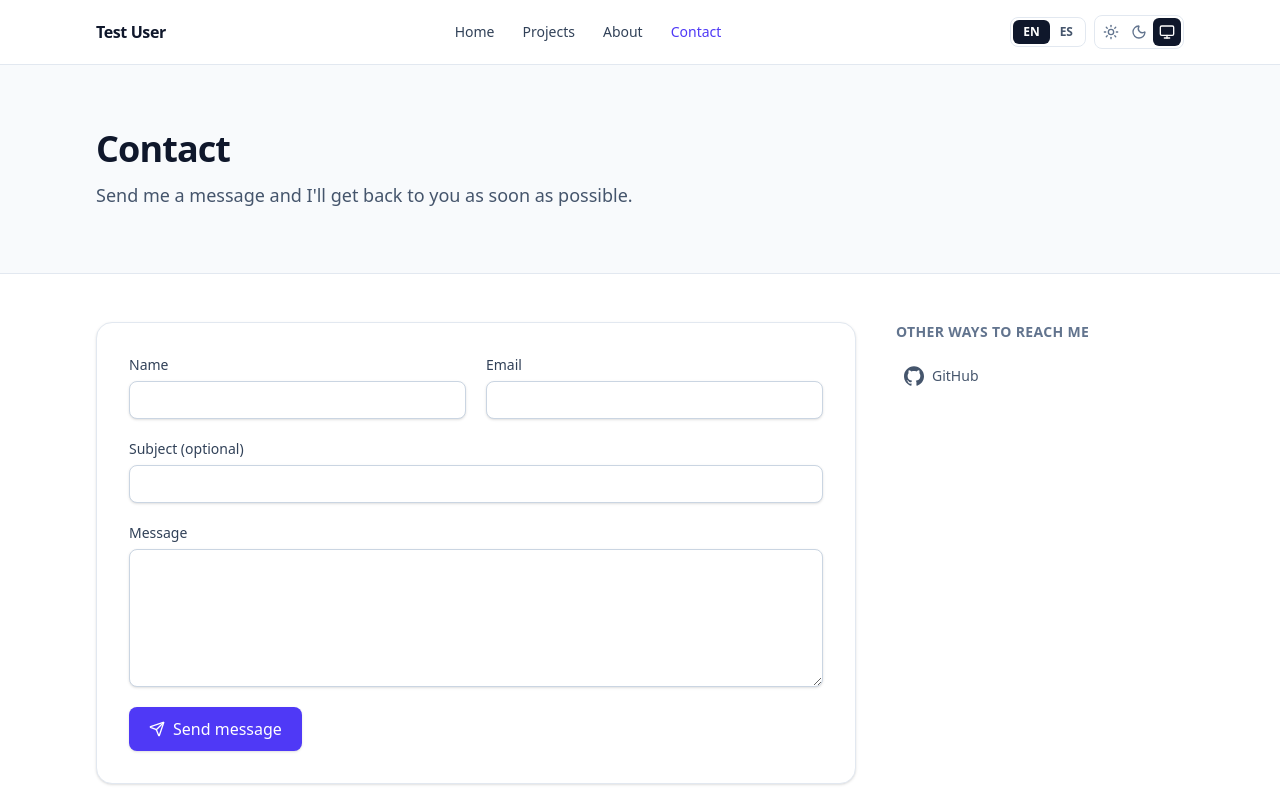
Test: ContactForm › sends the message with the page language and shows a confirmation
expect the button "Send message" is shown: met, box 129,707 -> 302,751
Step 1. Type "Ana" into the field labelled "Name" → (298, 400), box 129,381 -> 466,419
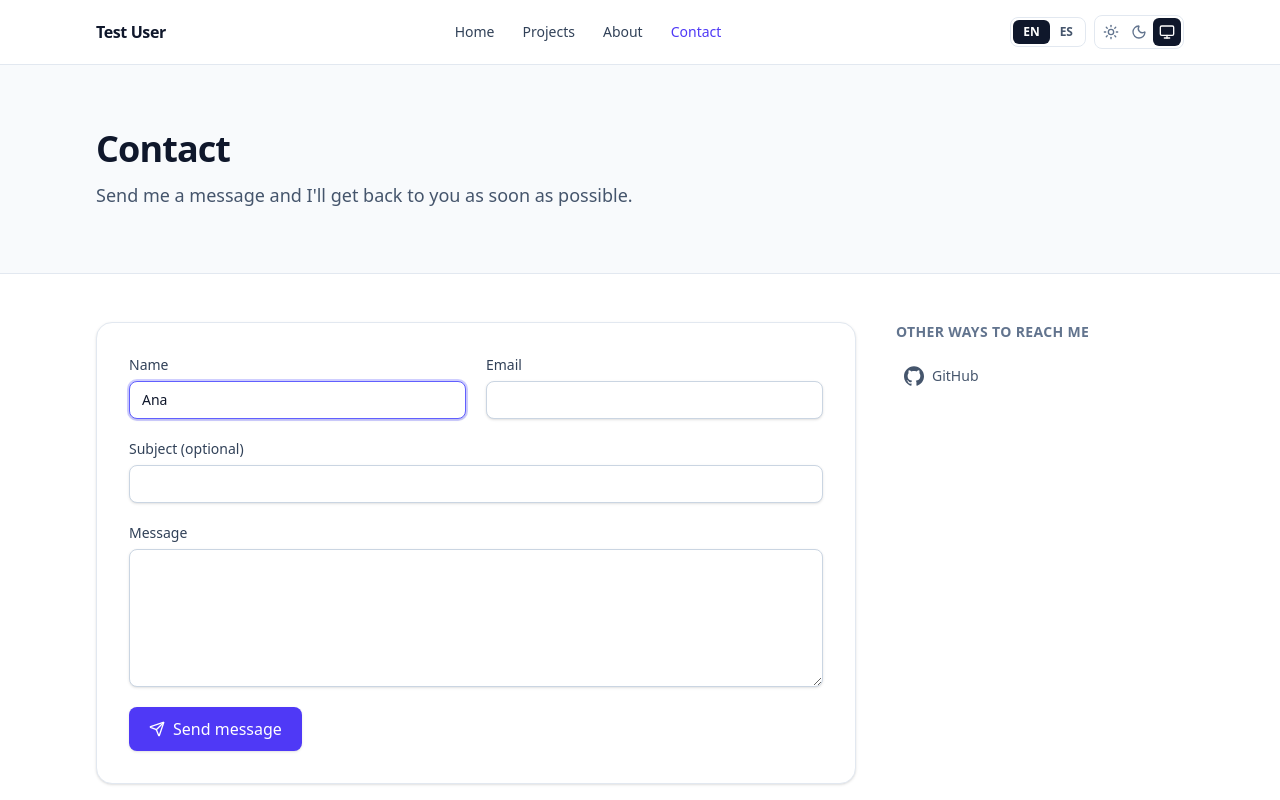
Step 2. Type "ana@example.com" into the field labelled "Email" → (654, 400), box 486,381 -> 823,419
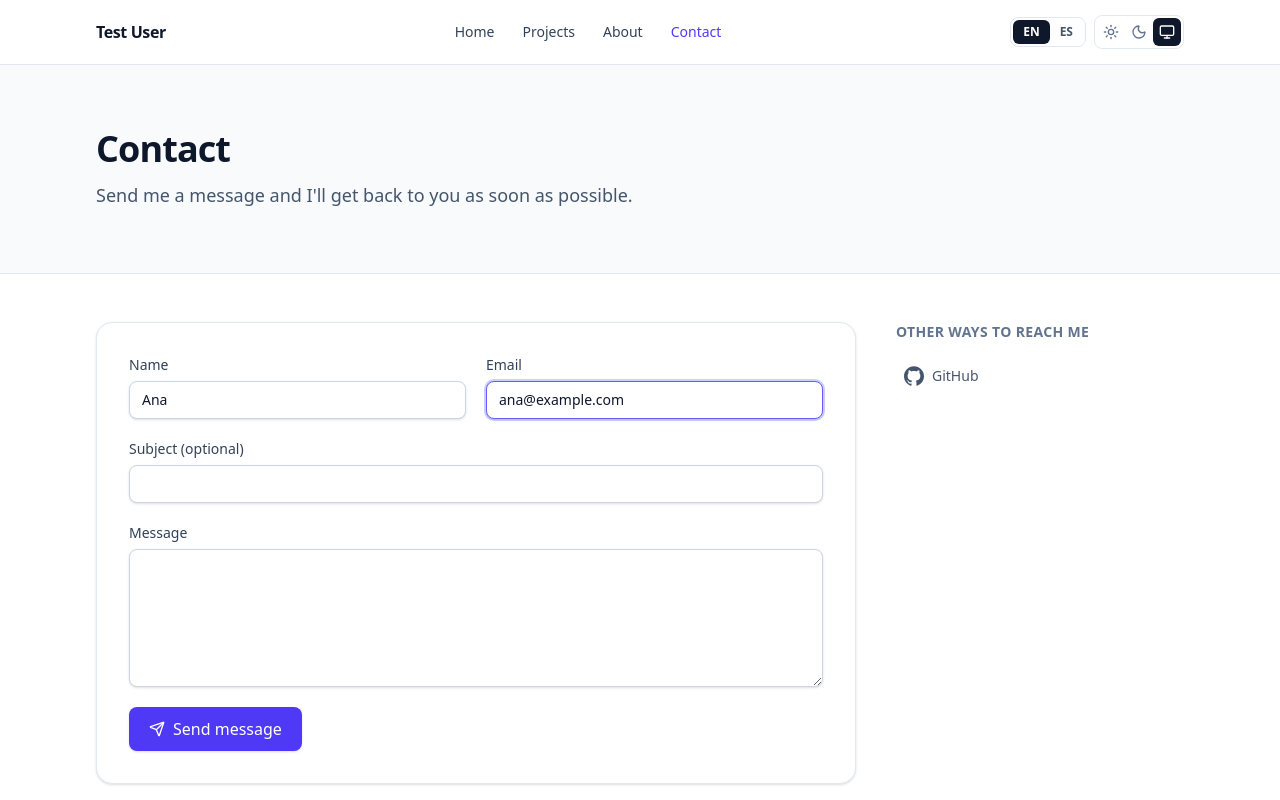
Step 3. Type "I would like to talk about a project." into the text box labelled "Message" → (476, 618), box 129,549 -> 823,687
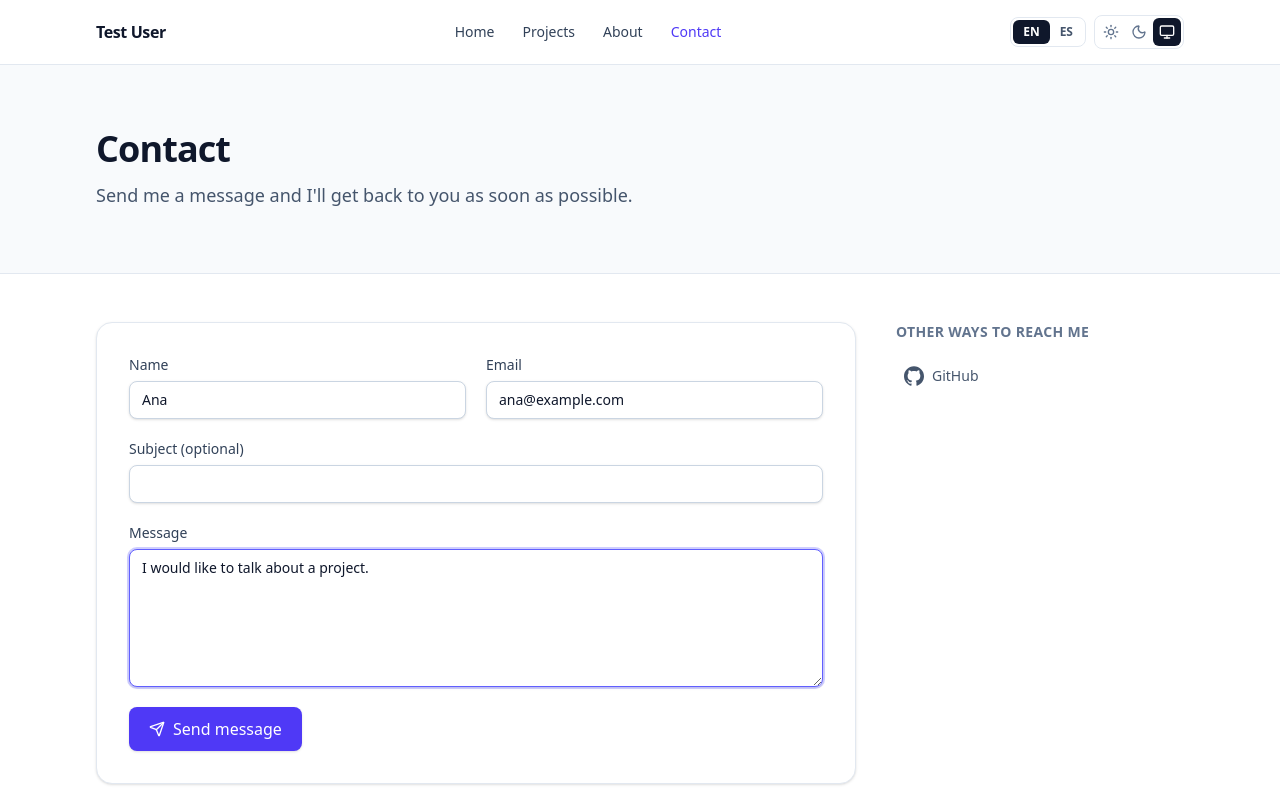
Step 4. Click the button "Send message" → (215, 729), box 129,707 -> 302,751
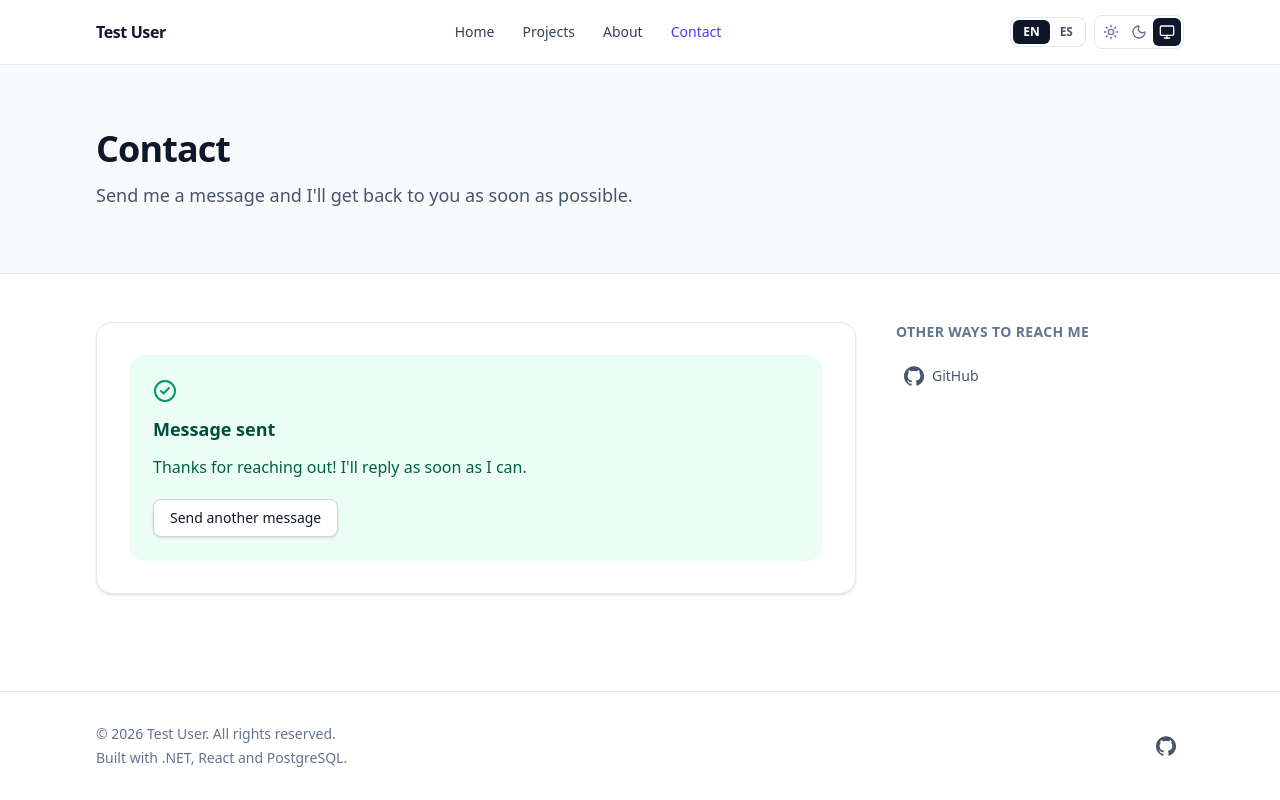
expect the heading "Message sent" is shown: met, box 153,415 -> 275,443
